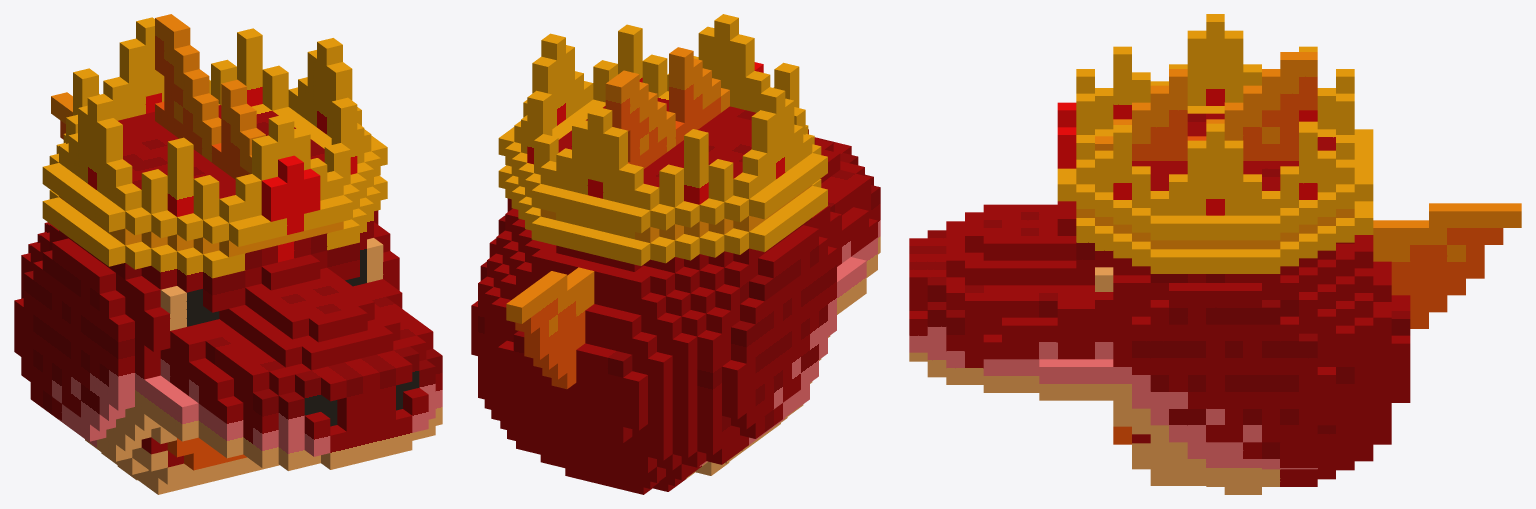
File: king crown_rainbow spectacles.gltf
The picture shows the model from 3 angles, left to right: view 1: azimuth 30°, elevation 25°; view 2: azimuth 150°, elevation 25°; view 3: azimuth 270°, elevation 25°; orthographic projection. The views are drawn at different scales.
Visible parts, largest first — view 1: C32_H_KingCrown_RedG_RBSpec-Mesh; view 2: C32_H_KingCrown_RedG_RBSpec-Mesh; view 3: C32_H_KingCrown_RedG_RBSpec-Mesh.
Part boxes in pixels (x1=…): C32_H_KingCrown_RedG_RBSpec-Mesh: x1=14, y1=14, x2=442, y2=494; C32_H_KingCrown_RedG_RBSpec-Mesh: x1=471, y1=14, x2=880, y2=494; C32_H_KingCrown_RedG_RBSpec-Mesh: x1=909, y1=14, x2=1521, y2=494.
Size of the model in its own units: 17 by 24 by 33.
Materials: 1 (1 with a texture image).
